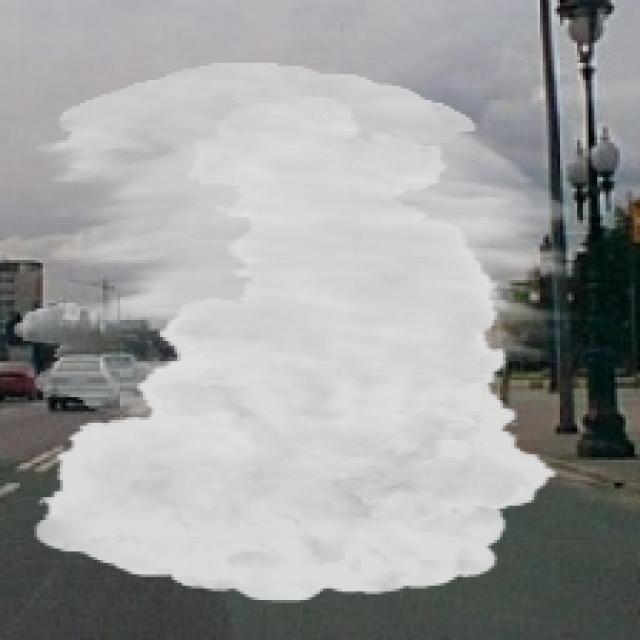smoke: (14, 63, 580, 603)
